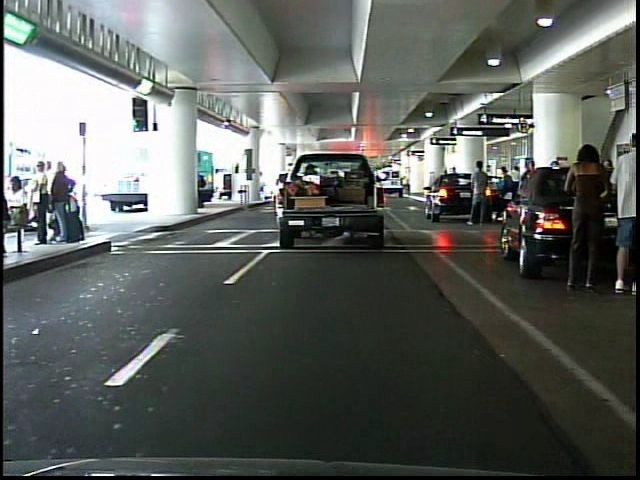person: (560, 134, 612, 295), (602, 125, 637, 291), (463, 154, 494, 230), (490, 163, 516, 231)
